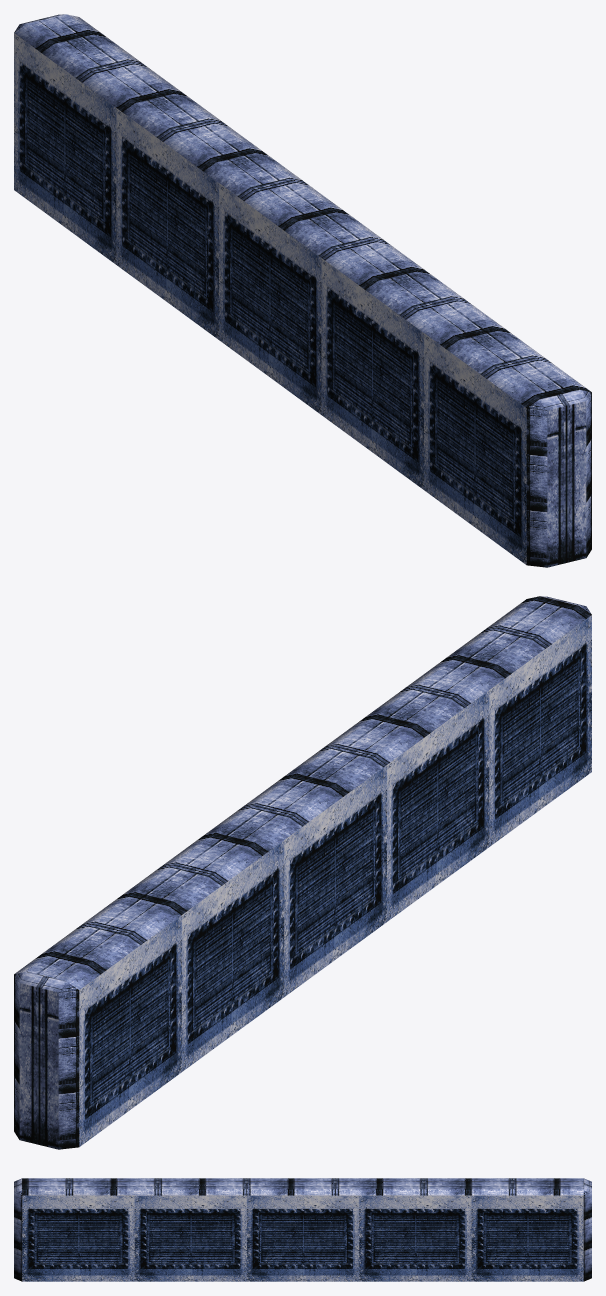
Rendered from Exaust Side.fbx.
3 renders of one model, top to bottom at view 1: azimuth 30°, elevation 25°; view 2: azimuth 150°, elevation 25°; view 3: azimuth 270°, elevation 25°, orthographic. The views are drawn at different scales.
Visible parts, largest first — view 1: object_3; view 2: object_3; view 3: object_3.
Boxes of the visible parts, <box> form: object_3: <box>14,14,591,567</box>; object_3: <box>14,596,591,1149</box>; object_3: <box>14,1178,591,1281</box>.
Bounding box in the file's own units: 50 × 119 × 700.
